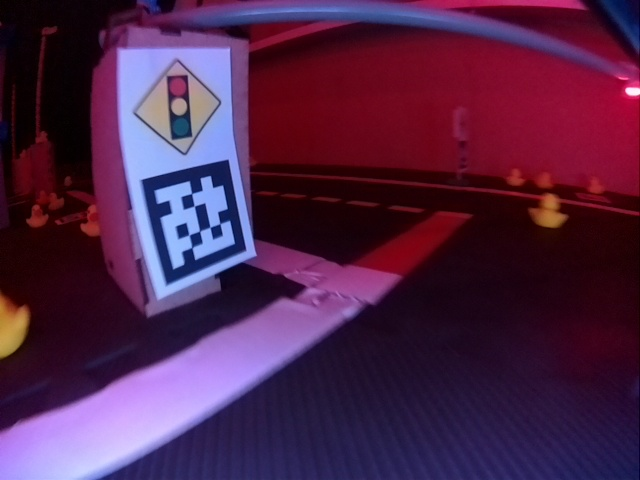Duckie: (528, 194, 565, 228), (80, 207, 99, 237), (26, 204, 49, 227), (507, 169, 525, 186), (534, 172, 553, 188), (588, 178, 604, 193)
QR code: (141, 162, 247, 286)
Signal sign: (133, 59, 221, 155)
